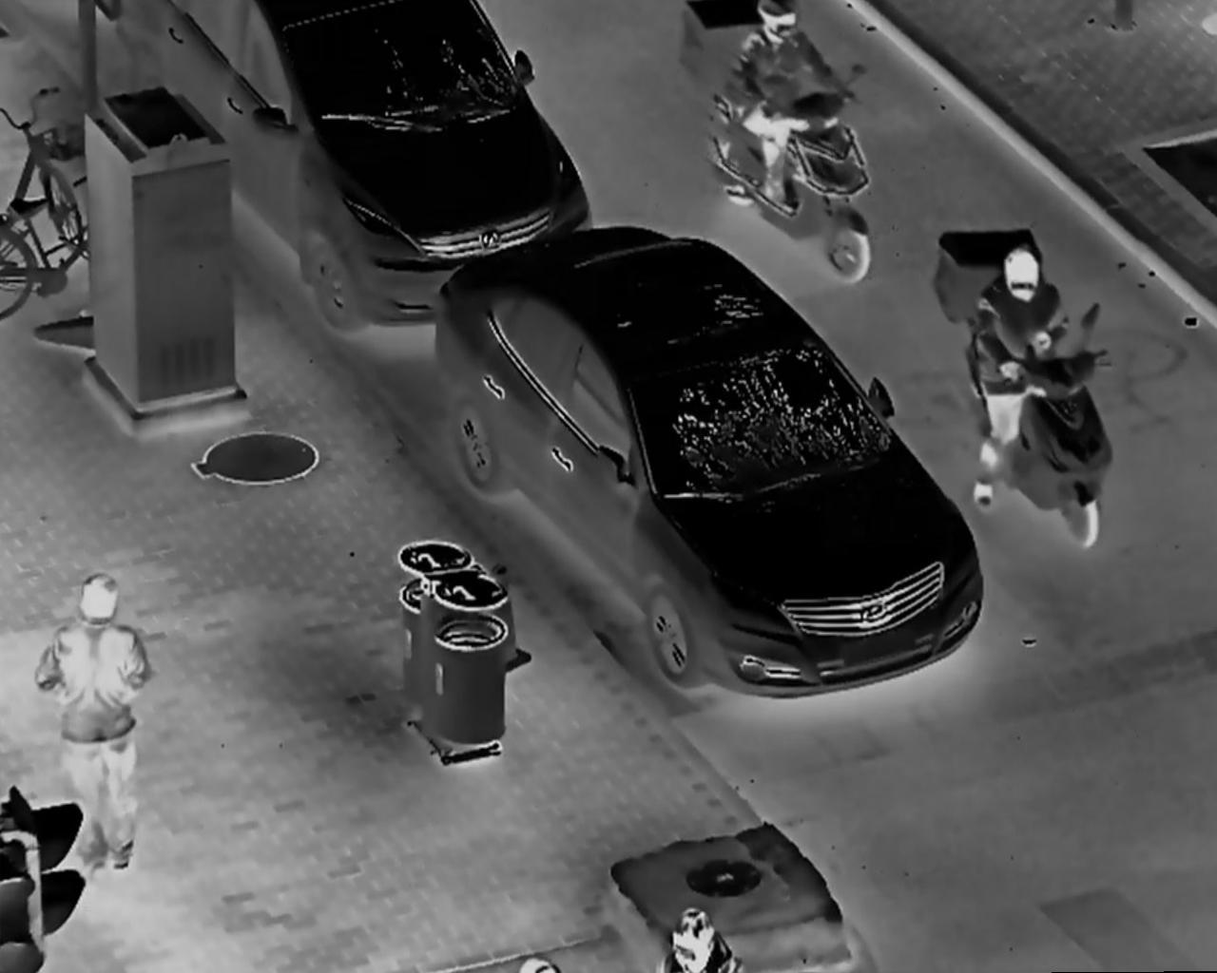person: (37, 573, 148, 879), (968, 241, 1081, 520), (708, 5, 860, 210)
